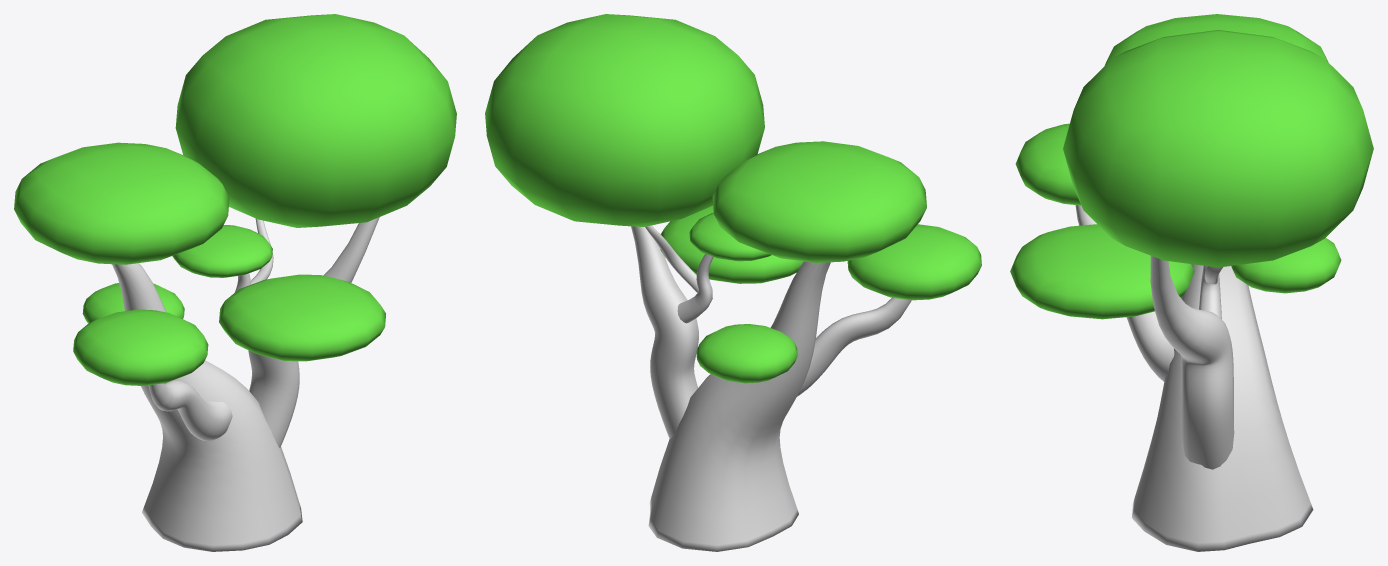
The model's file is tree2.glb.
The picture shows the model from 3 angles, left to right: view 1: azimuth 30°, elevation 25°; view 2: azimuth 150°, elevation 25°; view 3: azimuth 270°, elevation 25°; orthographic projection. The views are drawn at different scales.
Visible parts, largest first — view 1: leaf, NurbsPath.003; view 2: leaf, NurbsPath.003; view 3: leaf, NurbsPath.003.
Boxes of the visible parts, box(x1,y1,x2,y2) form: leaf: box(14, 14, 456, 385); NurbsPath.003: box(112, 217, 379, 551); leaf: box(485, 14, 981, 383); NurbsPath.003: box(631, 225, 911, 551); leaf: box(1010, 14, 1373, 319); NurbsPath.003: box(1075, 205, 1313, 551).
Size of the model in its own units: 6.41 by 6.88 by 4.41.
